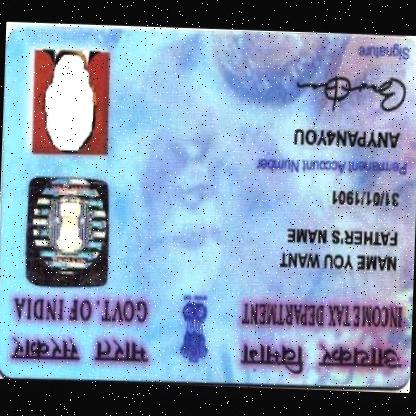pan_card: (0, 16, 415, 395)
